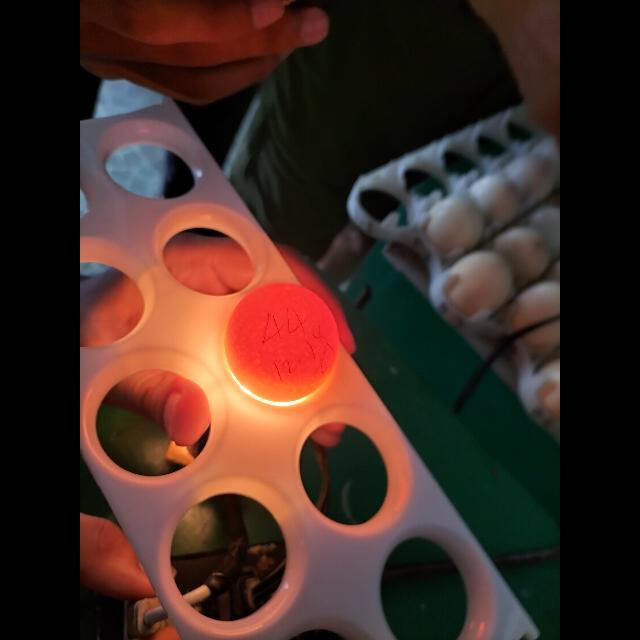Infertile: (222, 282, 342, 406)
